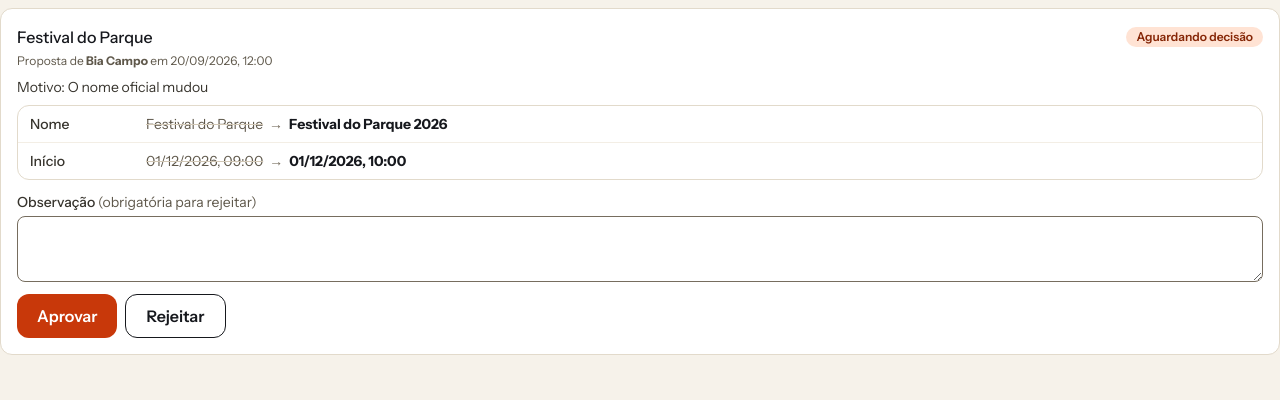
ApprovalInbox › rejeitar › SEM motivo não envia nada: mostra o que falta
What coordinates should you click on to do the following:
click the button with aria-label "Rejeitar a proposta"
I would click on:
 (176, 316)
Its box is x1=126 y1=294 x2=226 y2=338.
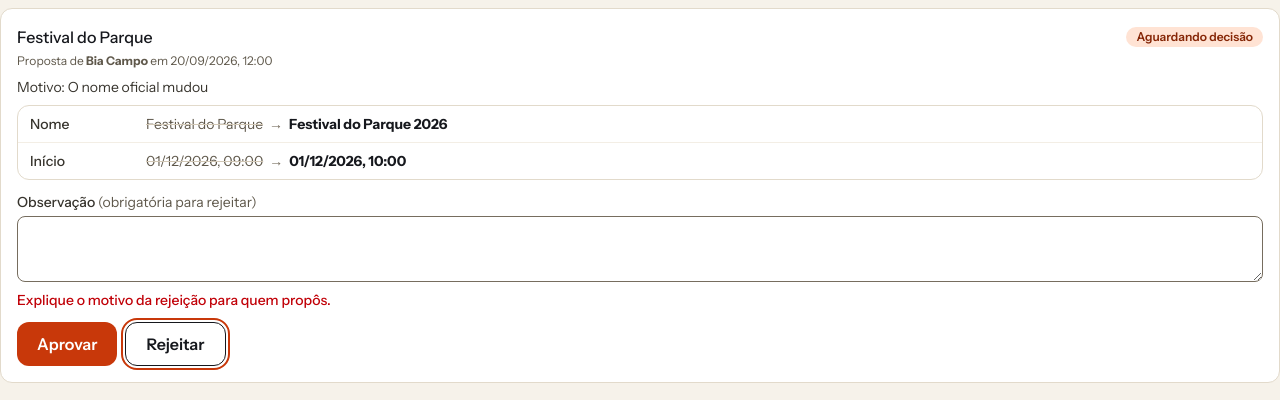
expect the message with test id "proposal-error" reads "Explique o motivo da rejeição para quem propôs.": met, box x1=17 y1=291 x2=331 y2=309
